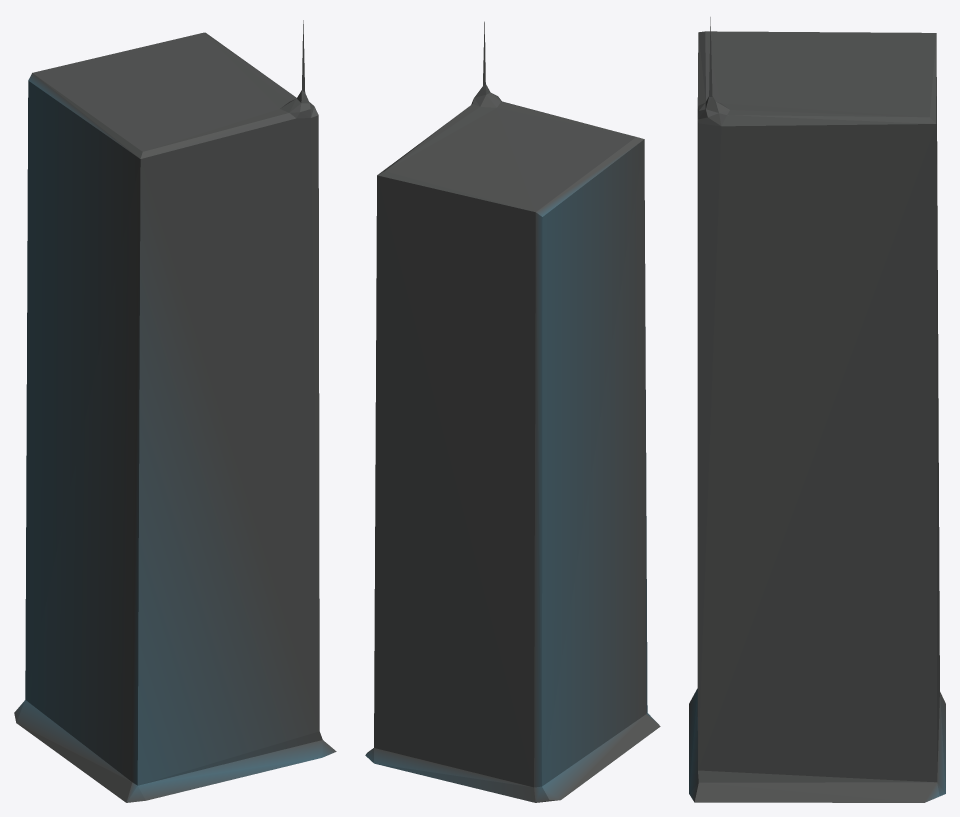
The model's file is Skyscrapers(1).glb.
3 renders of one model, left to right at view 1: azimuth 30°, elevation 25°; view 2: azimuth 150°, elevation 25°; view 3: azimuth 270°, elevation 25°, orthographic. The views are drawn at different scales.
Visible parts, largest first — view 1: Root; view 2: Root; view 3: Root.
Boxes of the visible parts, left/top/right/bottom form: Root: left=14, top=20, right=336, bottom=802; Root: left=365, top=21, right=660, bottom=802; Root: left=689, top=17, right=945, bottom=802.
Bounding box in the file's own units: 7.26 × 24.21 × 7.26.
